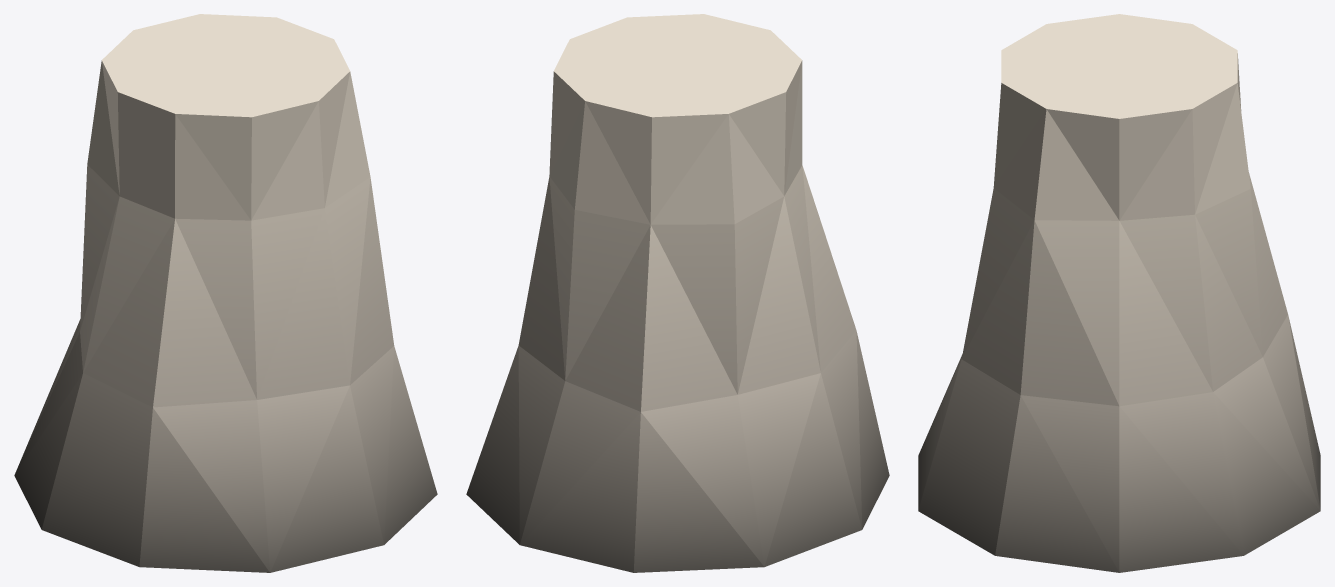
Rendered from SM_VKI_Prop_RockPillar_Cut.fbx.
3 views of the same model, side by side, from view 1: azimuth 30°, elevation 25°; view 2: azimuth 150°, elevation 25°; view 3: azimuth 270°, elevation 25° (orthographic).
Visible parts, largest first — view 1: SM_VKI_Prop_RockPillar_Cut.001; view 2: SM_VKI_Prop_RockPillar_Cut.001; view 3: SM_VKI_Prop_RockPillar_Cut.001.
Part boxes in pixels (bbox=[...]): SM_VKI_Prop_RockPillar_Cut.001: bbox=[14, 14, 437, 572]; SM_VKI_Prop_RockPillar_Cut.001: bbox=[466, 14, 889, 572]; SM_VKI_Prop_RockPillar_Cut.001: bbox=[918, 14, 1320, 572].
Size of the model in its own units: 0.92 by 1 by 0.875.
